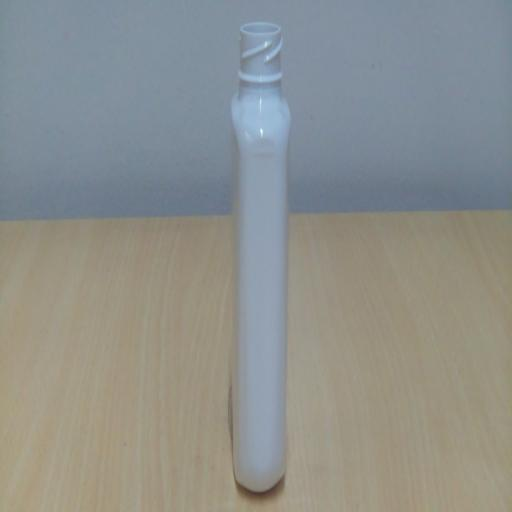Bad: (221, 16, 302, 504)
